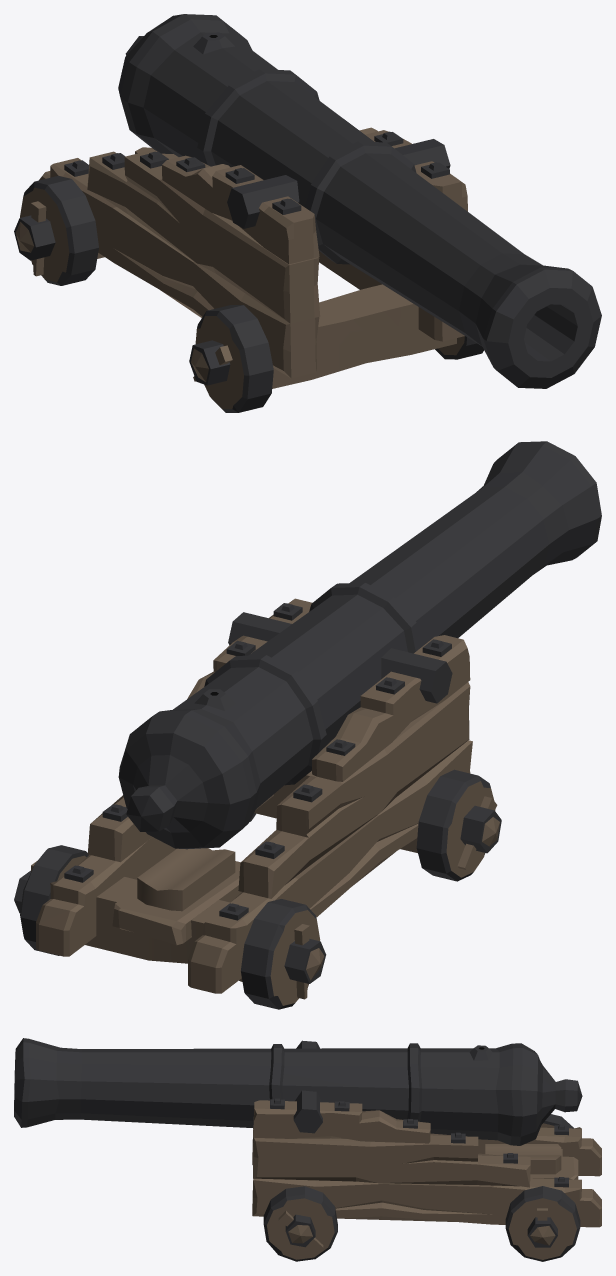
Rendered from SM_Prop_Cannon_02_Separate.glb.
3 renders of one model, top to bottom at view 1: azimuth 30°, elevation 25°; view 2: azimuth 150°, elevation 25°; view 3: azimuth 270°, elevation 25°, orthographic. The views are drawn at different scales.
Visible parts, largest first — view 1: SM_Prop_Cannon_02_Wheel_Front; view 2: SM_Prop_Cannon_02_Wheel_Front; view 3: SM_Prop_Cannon_02_Wheel_Front.
Part boxes in pixels (<box>): SM_Prop_Cannon_02_Wheel_Front: <box>14,14,601,412</box>; SM_Prop_Cannon_02_Wheel_Front: <box>14,441,601,1009</box>; SM_Prop_Cannon_02_Wheel_Front: <box>14,1038,601,1261</box>.
Bounding box in the file's own units: 0.0104 × 0.00855 × 0.0255.
